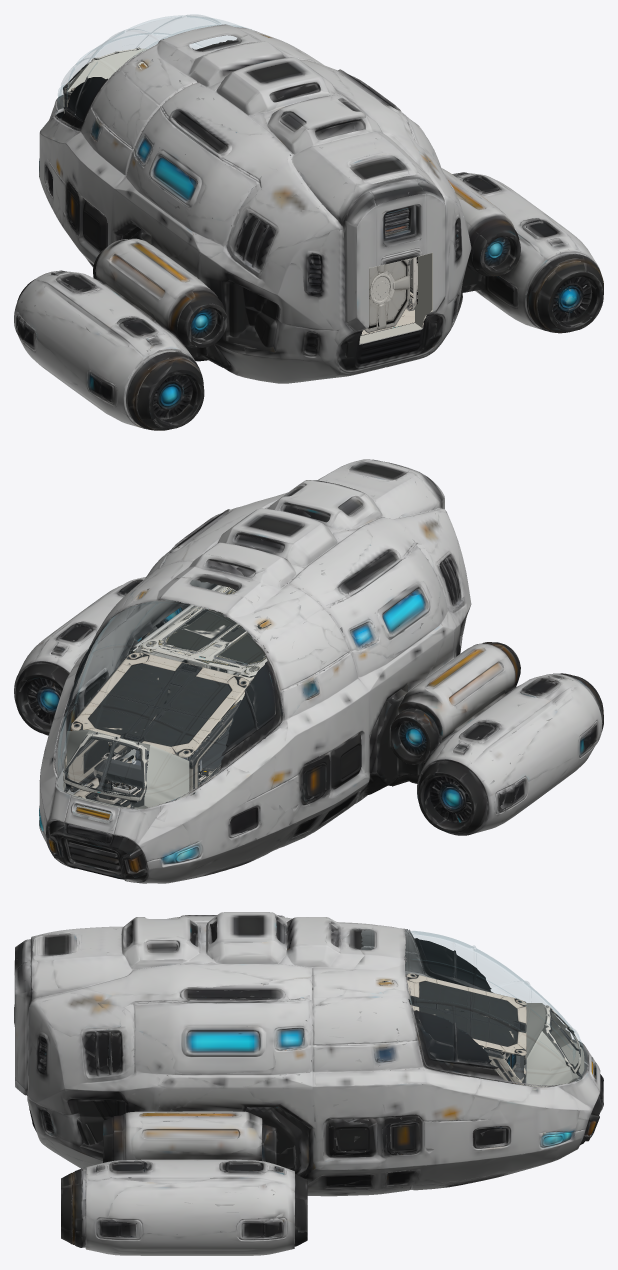
The model's file is spacecraft-redesign-lod0.glb.
3 renders of one model, top to bottom at view 1: azimuth 30°, elevation 25°; view 2: azimuth 150°, elevation 25°; view 3: azimuth 270°, elevation 25°, orthographic. The views are drawn at different scales.
Parts seen in each view (by area): view 1: Exterior_Hull_90, Canopy_Glass_91, 气闸外门_0_65, 尾门通道衬板3_89, 驾驶窗周边衬板1_83, 气闸外门_1_66; view 2: Exterior_Hull_90, 驾驶区顶板_0_30, 后舱顶板_0_33, 驾驶窗周边衬板2_84, 前舷窗框_0_31, 右驾驶区侧壁_0_27, 前方主操控台_0_0, Canopy_Glass_91, 左驾驶区侧壁_0_16, 后舱地板_0_32, 驾驶区地板_0_28, 右后舱侧壁_0_37; view 3: Exterior_Hull_90, 驾驶区顶板_0_30, Canopy_Glass_91, 驾驶窗周边衬板3_85, 驾驶窗周边衬板1_83, 前舷窗框_0_31, 右驾驶区侧壁_0_27, 驾驶窗周边衬板2_84, 驾驶窗周边衬板0_82.
Part boxes in pixels (x1=…): Exterior_Hull_90: x1=14, y1=24, x2=603, y2=430; Canopy_Glass_91: x1=57, y1=14, x2=250, y2=110; 气闸外门_0_65: x1=364, y1=258, x2=412, y2=332; 尾门通道衬板3_89: x1=415, y1=253, x2=432, y2=327; 驾驶窗周边衬板1_83: x1=67, y1=48, x2=147, y2=91; 气闸外门_1_66: x1=370, y1=271, x2=394, y2=306; Exterior_Hull_90: x1=14, y1=459, x2=603, y2=883; 驾驶区顶板_0_30: x1=70, y1=652, x2=249, y2=757; 后舱顶板_0_33: x1=140, y1=586, x2=271, y2=677; 驾驶窗周边衬板2_84: x1=144, y1=745, x2=189, y2=807; 前舷窗框_0_31: x1=63, y1=732, x2=146, y2=808; 右驾驶区侧壁_0_27: x1=64, y1=653, x2=131, y2=792; 前方主操控台_0_0: x1=93, y1=759, x2=147, y2=804; Canopy_Glass_91: x1=57, y1=585, x2=245, y2=781; 左驾驶区侧壁_0_16: x1=189, y1=700, x2=241, y2=795; 后舱地板_0_32: x1=196, y1=673, x2=253, y2=771; 驾驶区地板_0_28: x1=73, y1=756, x2=211, y2=812; 右后舱侧壁_0_37: x1=129, y1=585, x2=237, y2=749; Exterior_Hull_90: x1=14, y1=912, x2=603, y2=1255; 驾驶区顶板_0_30: x1=405, y1=973, x2=526, y2=1056; Canopy_Glass_91: x1=363, y1=930, x2=596, y2=1079; 驾驶窗周边衬板3_85: x1=526, y1=1031, x2=572, y2=1089; 驾驶窗周边衬板1_83: x1=526, y1=1003, x2=545, y2=1058; 前舷窗框_0_31: x1=544, y1=1005, x2=582, y2=1078; 右驾驶区侧壁_0_27: x1=484, y1=1049, x2=523, y2=1084; 驾驶窗周边衬板2_84: x1=542, y1=1003, x2=572, y2=1049; 驾驶窗周边衬板0_82: x1=557, y1=1042, x2=584, y2=1083.
Size of the model in its own units: 14.46 by 6.95 by 16.
61 materials, 30 textured.
